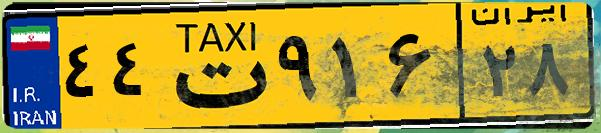1: (330, 28, 385, 110)
2: (475, 38, 525, 113)
4: (57, 26, 110, 100), (110, 28, 158, 98)
6: (385, 28, 445, 110)
8: (525, 38, 570, 115)
9: (270, 28, 330, 110)
ت: (158, 12, 270, 120)
